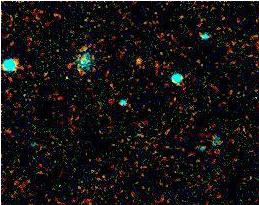star: (122, 46, 152, 76)
